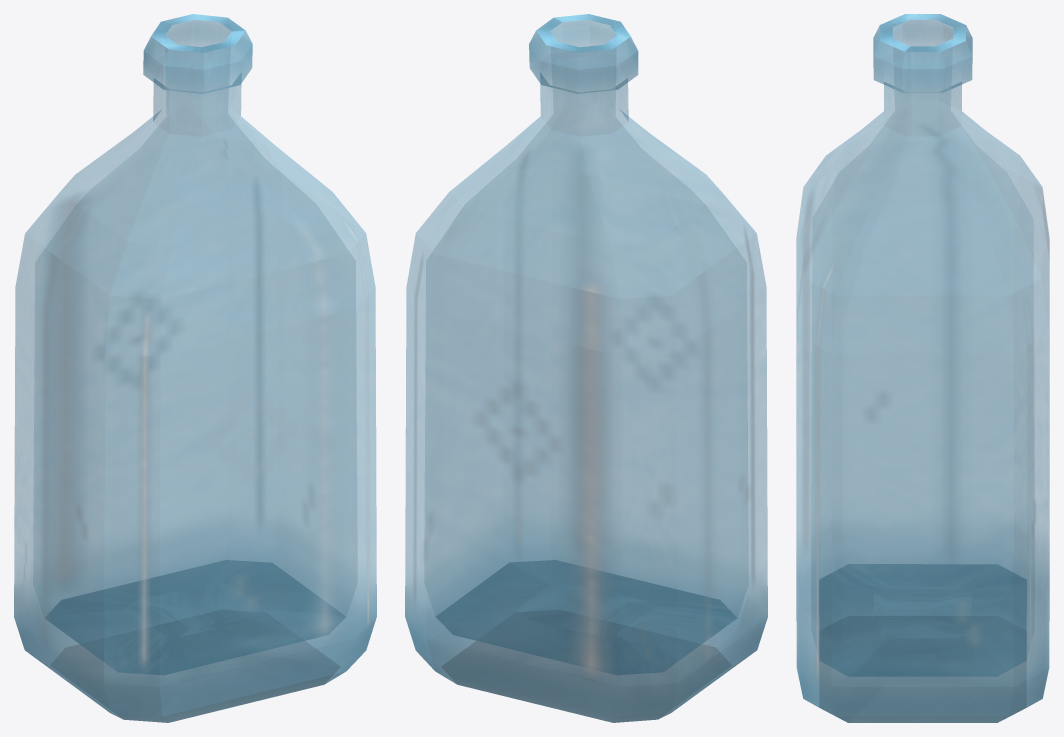
The model's file is Frasco-Quadrado-Azul.glb.
3 views of the same model, side by side, from view 1: azimuth 30°, elevation 25°; view 2: azimuth 150°, elevation 25°; view 3: azimuth 270°, elevation 25° (orthographic).
Visible parts, largest first — view 1: Frasco quadrado; view 2: Frasco quadrado; view 3: Frasco quadrado.
Part boxes in pixels (x1=…): Frasco quadrado: x1=14, y1=14, x2=376, y2=722; Frasco quadrado: x1=405, y1=14, x2=767, y2=722; Frasco quadrado: x1=796, y1=14, x2=1049, y2=722.
Bounding box in the file's own units: 0.0981 × 0.217 × 0.0781.
1 material, 1 textured.
